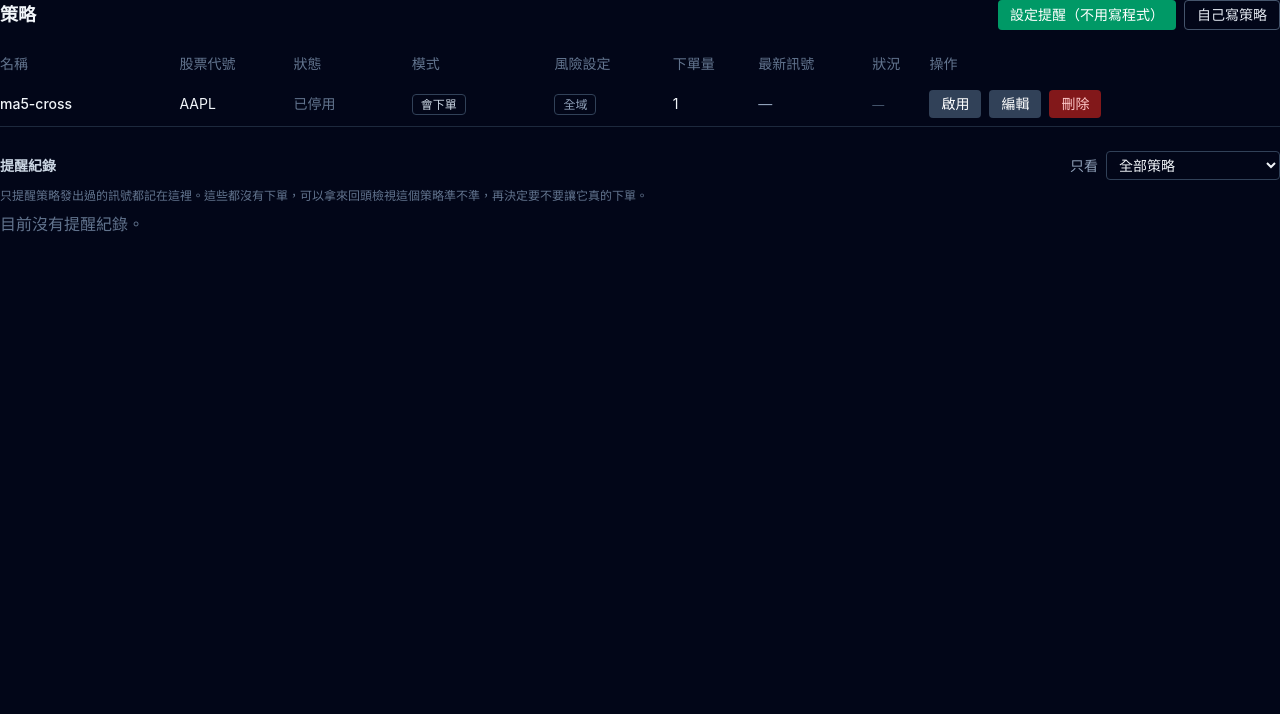
Test: StrategiesPage › generates a strategy from a plain-language description and fills the form
The width and height of the screenshot is (1280, 714).
Step 1. Click the button "自己寫策略" → [1232, 15], box [1184, 0, 1279, 30]
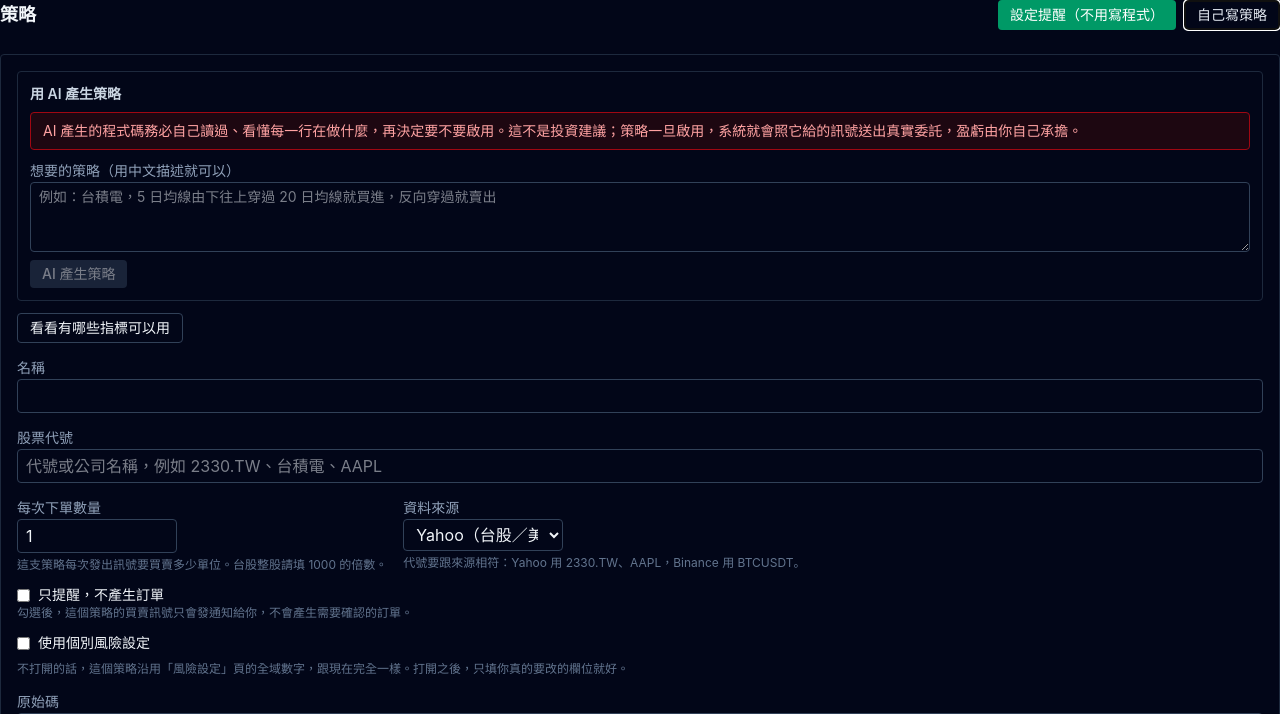
Step 2. Type "台積電五日均線向上就買進" into the text box labelled "想要的策略（用中文描述就可以）" → [640, 217], box [30, 182, 1250, 252]
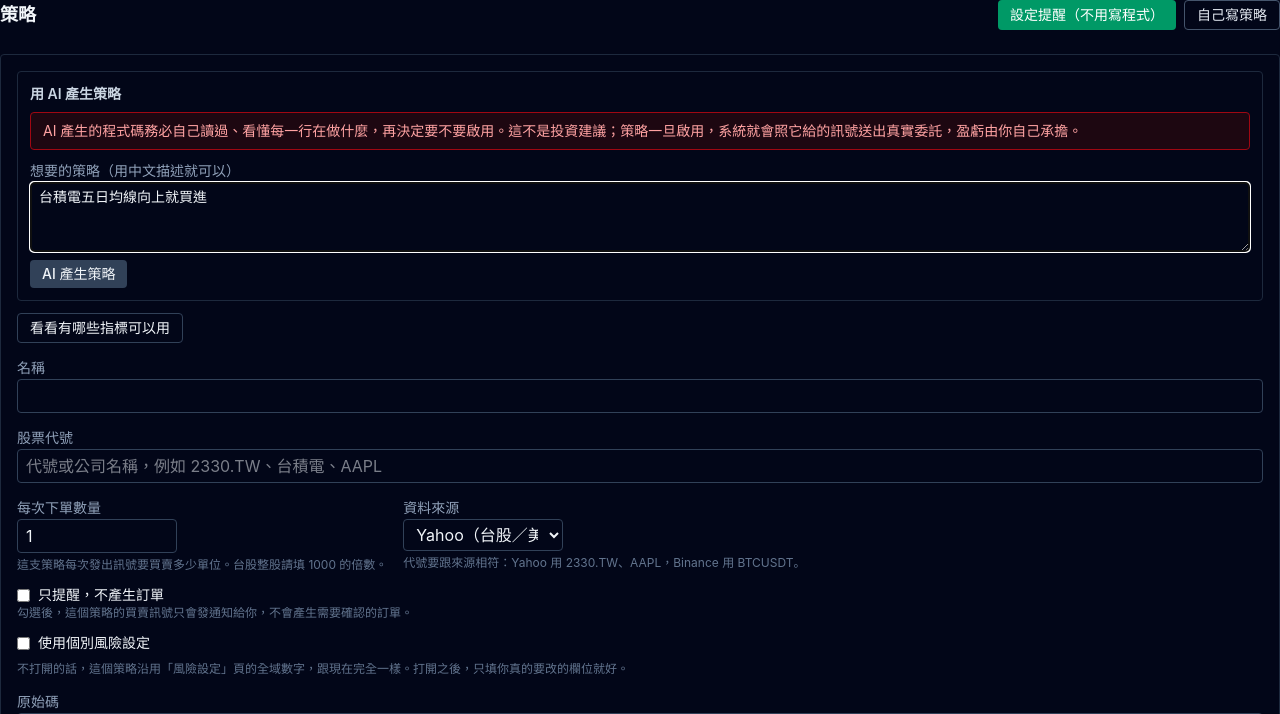
Step 3. Click the button "AI 產生策略" → [79, 274], box [30, 260, 128, 288]
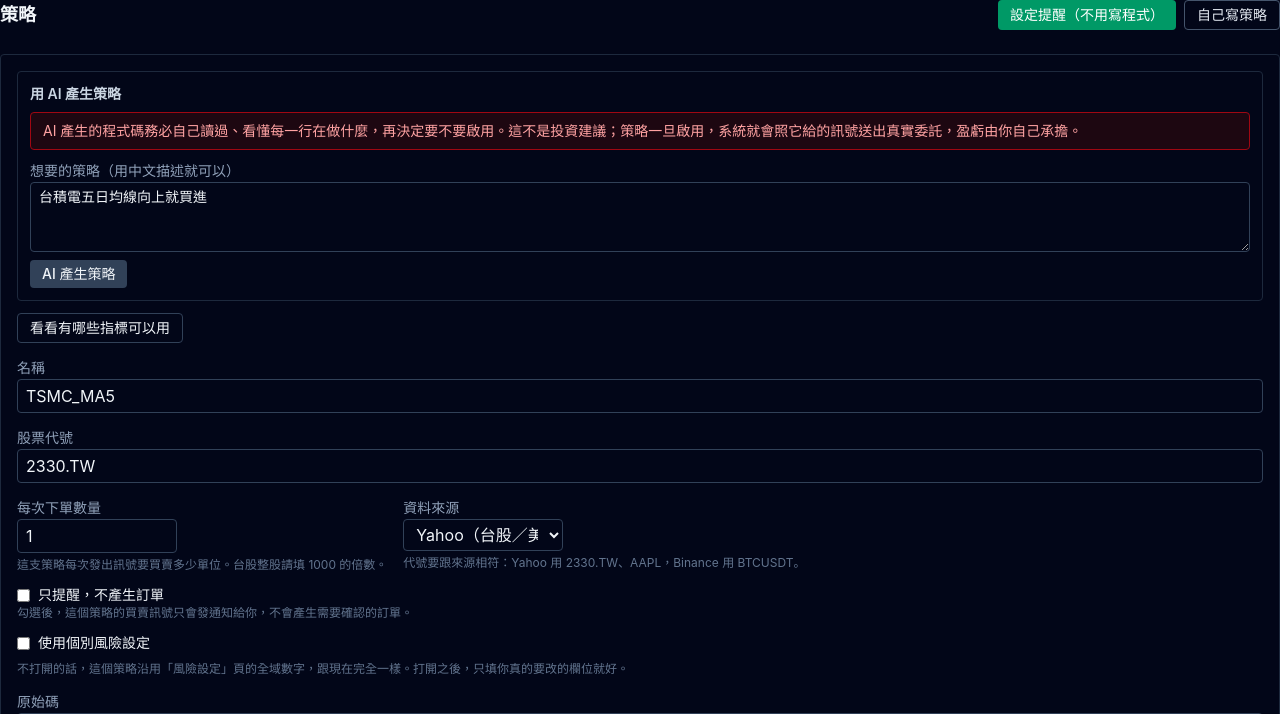
Result: the field labelled "名稱" holds "TSMC_MA5" at [17, 379, 1263, 413]
Result: the field labelled "股票代號" holds "2330.TW" at [17, 449, 1263, 483]
